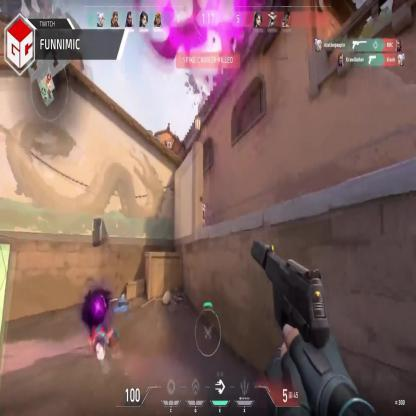enemy: (198, 200, 206, 233)
enemy_head: (198, 200, 204, 206)
